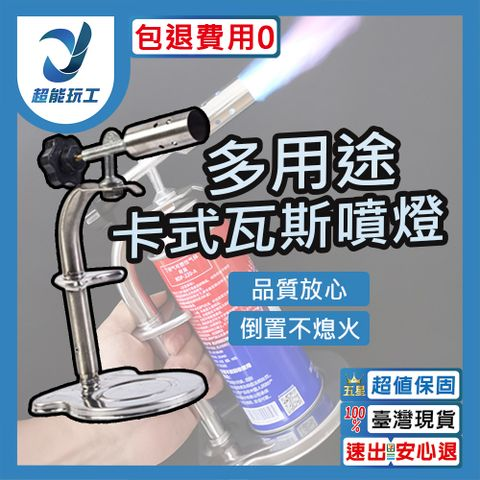gastorch: (105, 82, 349, 466)
